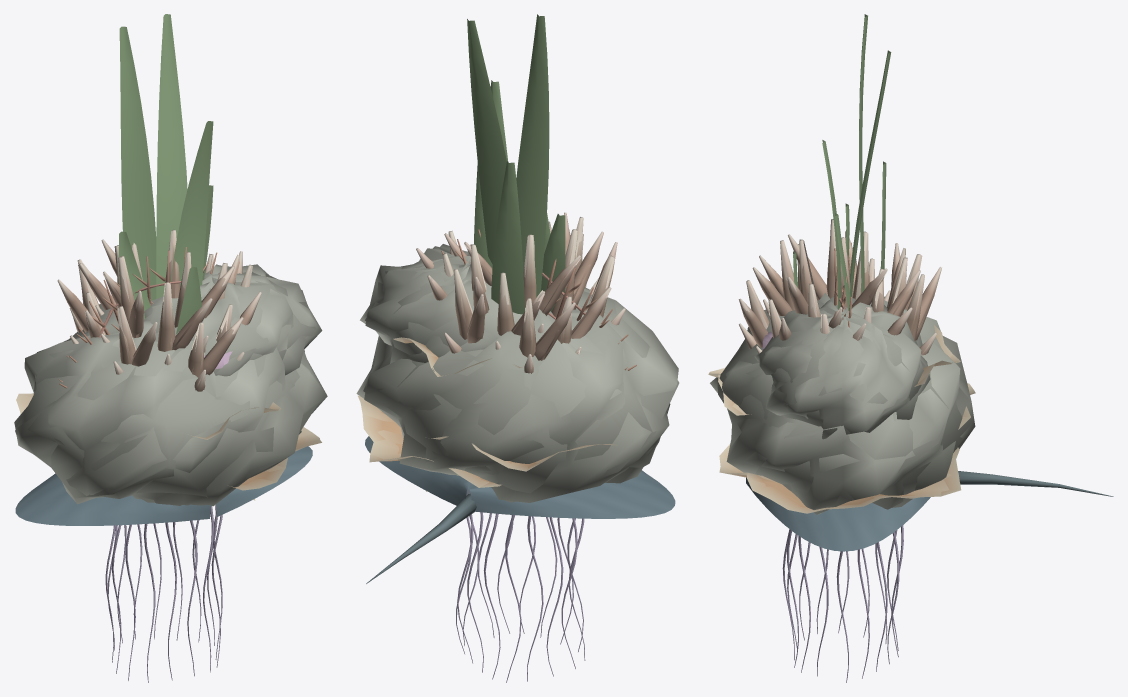
File: marine-kit.glb
The picture shows the model from 3 angles, left to right: view 1: azimuth 30°, elevation 25°; view 2: azimuth 150°, elevation 25°; view 3: azimuth 270°, elevation 25°; orthographic projection. The views are drawn at different scales.
Parts seen in each view (by area): view 1: reef_rock, reef_rock_lod, kelp, coral_branch, ray, jellyfish, coral_branch_lod, coral_fan, coral_plate_lod, coral_plate; view 2: reef_rock, reef_rock_lod, kelp, coral_branch, ray, jellyfish, coral_branch_lod, coral_plate_lod, coral_plate, coral_fan; view 3: reef_rock, reef_rock_lod, coral_branch, ray, kelp, jellyfish, coral_branch_lod, coral_plate_lod, coral_plate.
Boxes of the visible parts, <box> form: reef_rock: <box>14,264,327,506</box>; reef_rock_lod: <box>15,265,318,505</box>; kelp: <box>118,14,213,333</box>; coral_branch: <box>57,229,261,391</box>; ray: <box>15,446,312,525</box>; jellyfish: <box>105,504,222,682</box>; coral_branch_lod: <box>64,230,254,390</box>; coral_fan: <box>59,247,219,388</box>; coral_plate_lod: <box>16,394,321,490</box>; coral_plate: <box>19,393,304,489</box>; reef_rock: <box>356,244,678,502</box>; reef_rock_lod: <box>363,246,679,502</box>; kelp: <box>467,14,565,314</box>; coral_branch: <box>416,212,625,373</box>; ray: <box>365,436,675,583</box>; jellyfish: <box>456,489,585,682</box>; coral_branch_lod: <box>423,217,619,373</box>; coral_plate_lod: <box>358,337,617,487</box>; coral_plate: <box>362,337,616,487</box>; coral_fan: <box>441,229,636,370</box>; reef_rock: <box>710,293,975,514</box>; reef_rock_lod: <box>718,296,971,514</box>; coral_branch: <box>739,219,941,354</box>; ray: <box>746,471,1113,551</box>; kelp: <box>793,14,891,310</box>; jellyfish: <box>782,525,903,682</box>; coral_branch_lod: <box>738,219,937,355</box>; coral_plate_lod: <box>708,344,975,513</box>; coral_plate: <box>709,325,975,507</box>.
Size of the model in its own units: 2.47 by 5.12 by 3.
